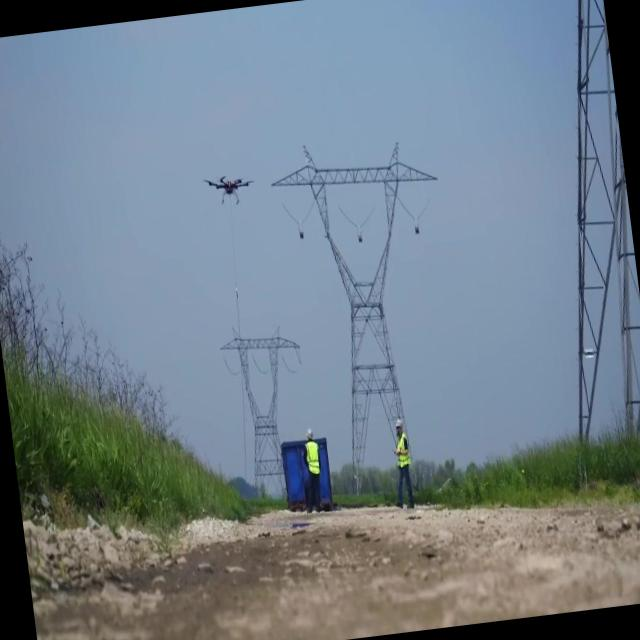drone: (200, 168, 258, 210)
